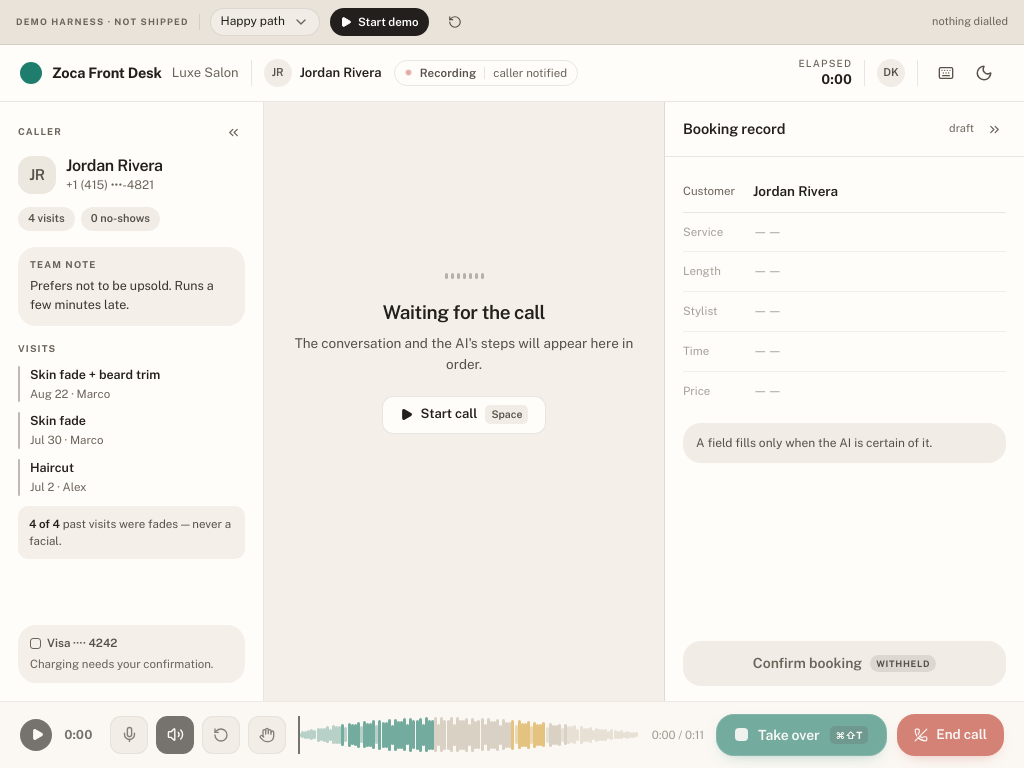
Test case: Keyboard shortcuts › opens the shortcuts help from the header button
The width and height of the screenshot is (1024, 768).
Click the button named "Keyboard shortcuts".
click(946, 73)  # box [930,57,962,89]
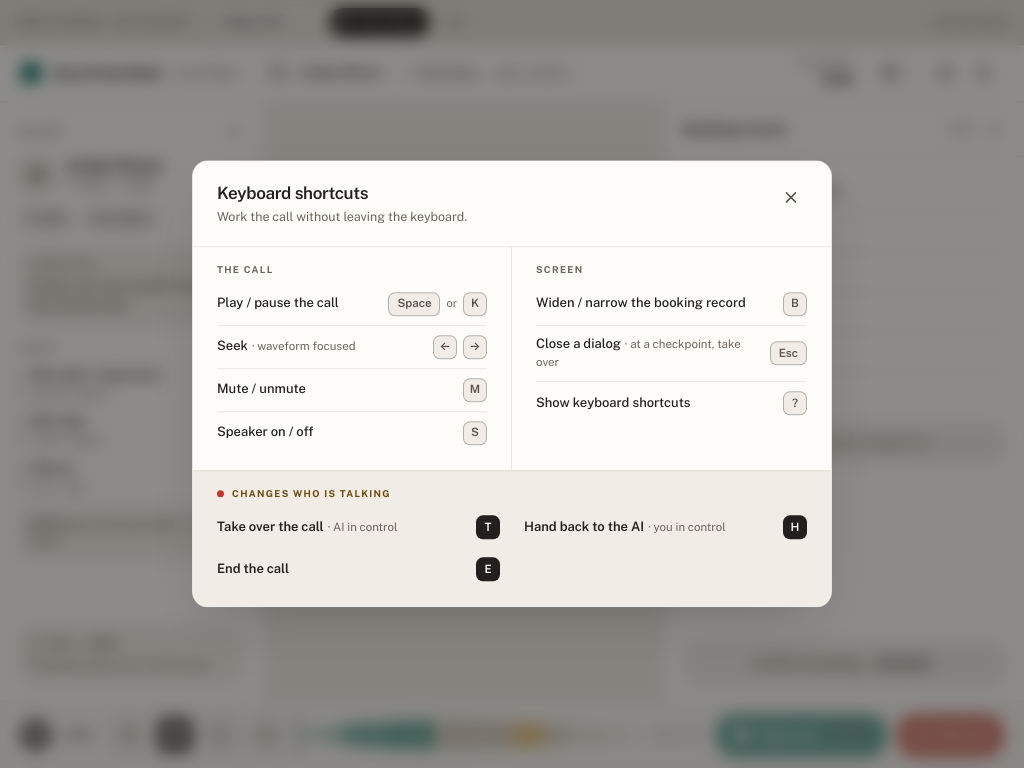
Expected: the heading "Keyboard shortcuts" is shown, [217,183,368,203]
Expected: the text "Play / pause the call" is shown, [217,296,339,310]
Expected: the text "Take over the call" is shown, [217,519,324,534]
